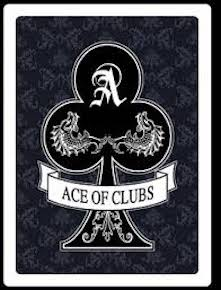AceOfClubs: (2, 3, 217, 283)
